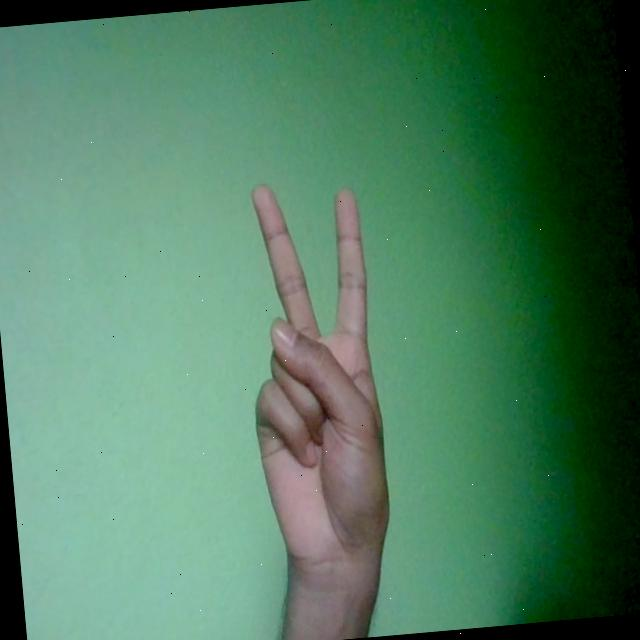Fist: (234, 173, 395, 578)
